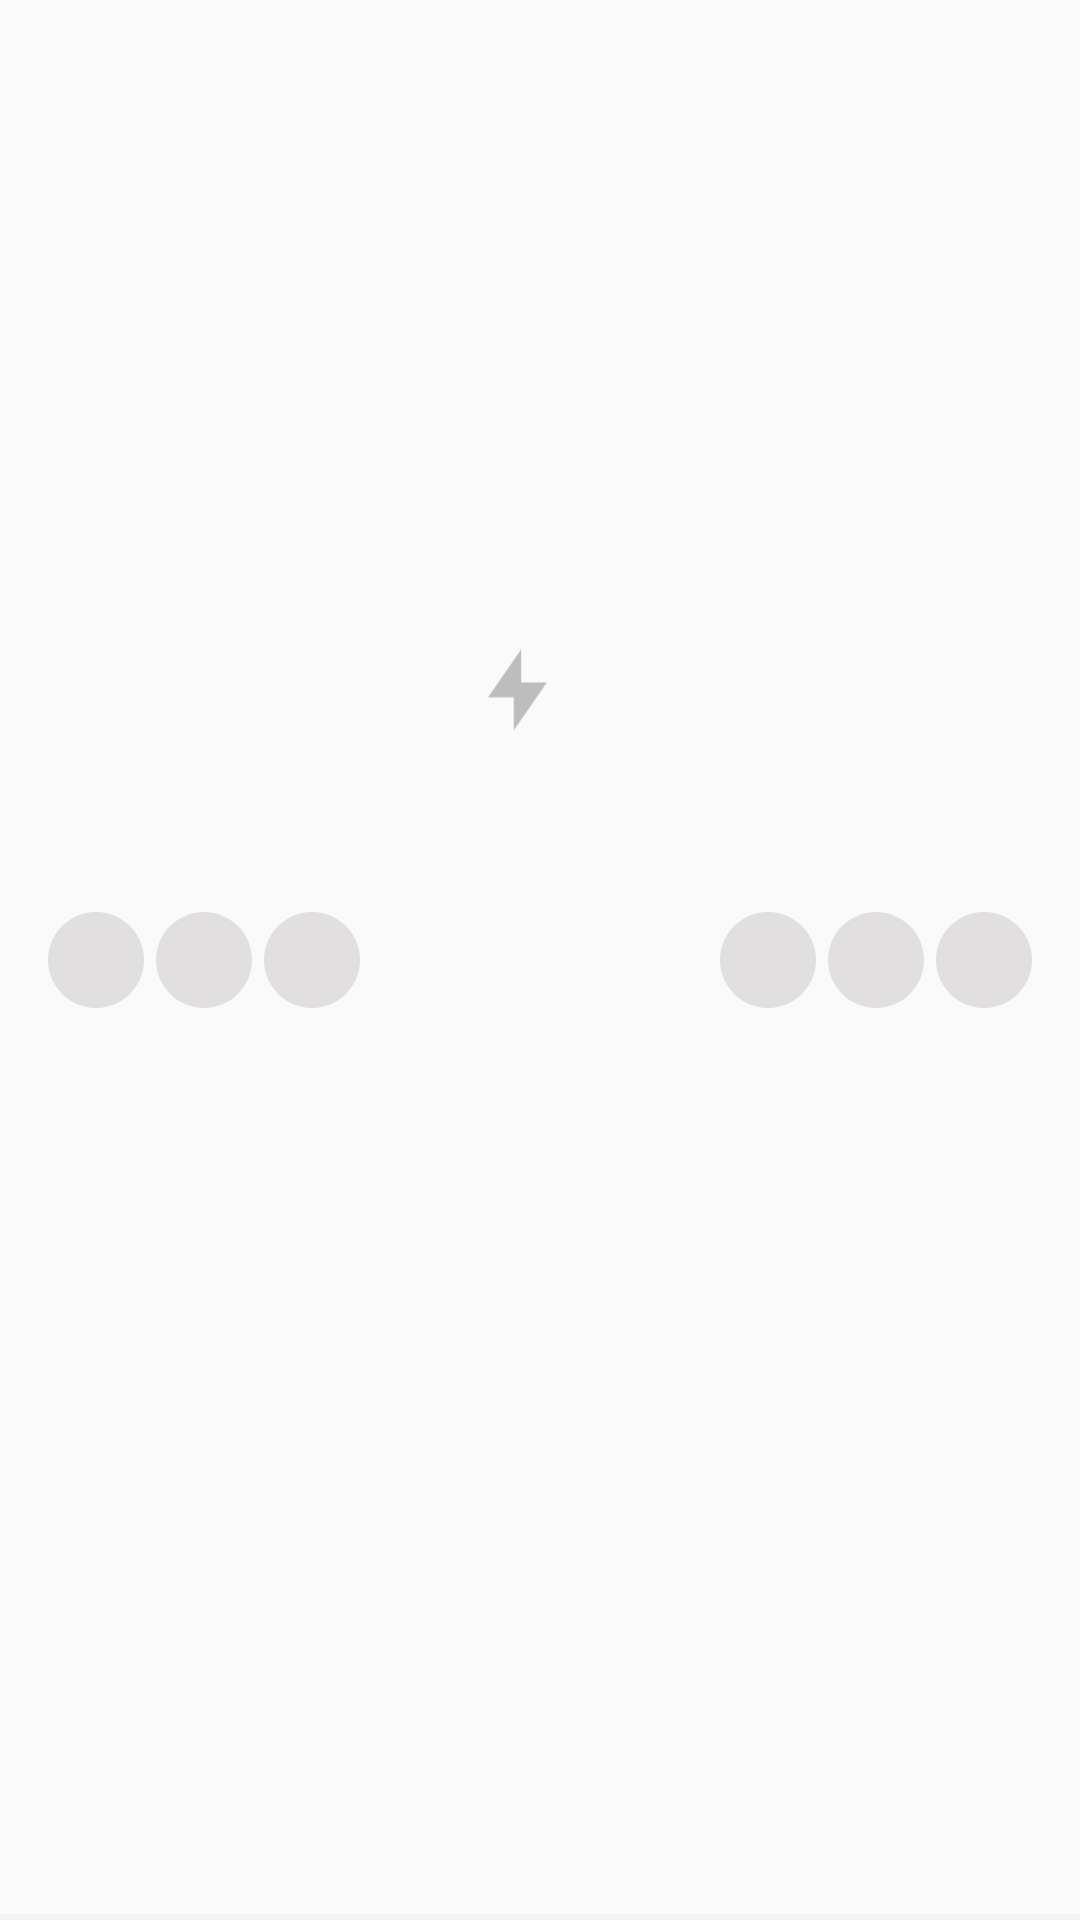

Point at icon controls on the screen. Image size 1080*1920, points as (x,y).
thunder: (517,689)
